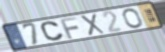2: (103, 10, 124, 34)
7: (20, 22, 40, 47)
C: (40, 21, 66, 42)
F: (58, 16, 79, 40)
O: (122, 8, 144, 29)
X: (78, 12, 106, 36)
